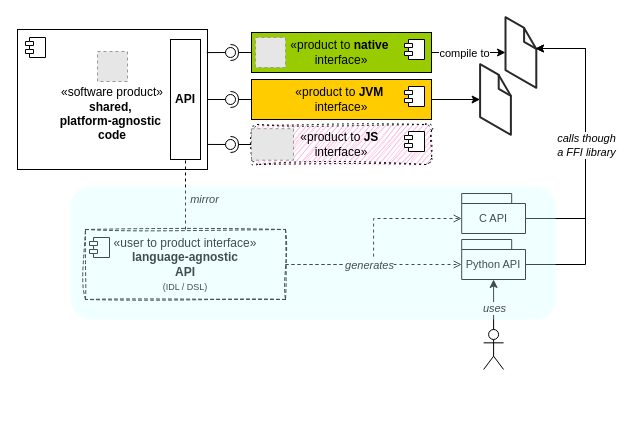
Image size: 633x422. Some labels were removed from this diagram. Grey dashed boxes stand in for pictures. Each missing label, with the centre of its shape:
".jar" goes at (495,99).
".so" goes at (520,52).
"Transpilation infrastructure" goes at (312,252).
"User of the library" goes at (493,349).
